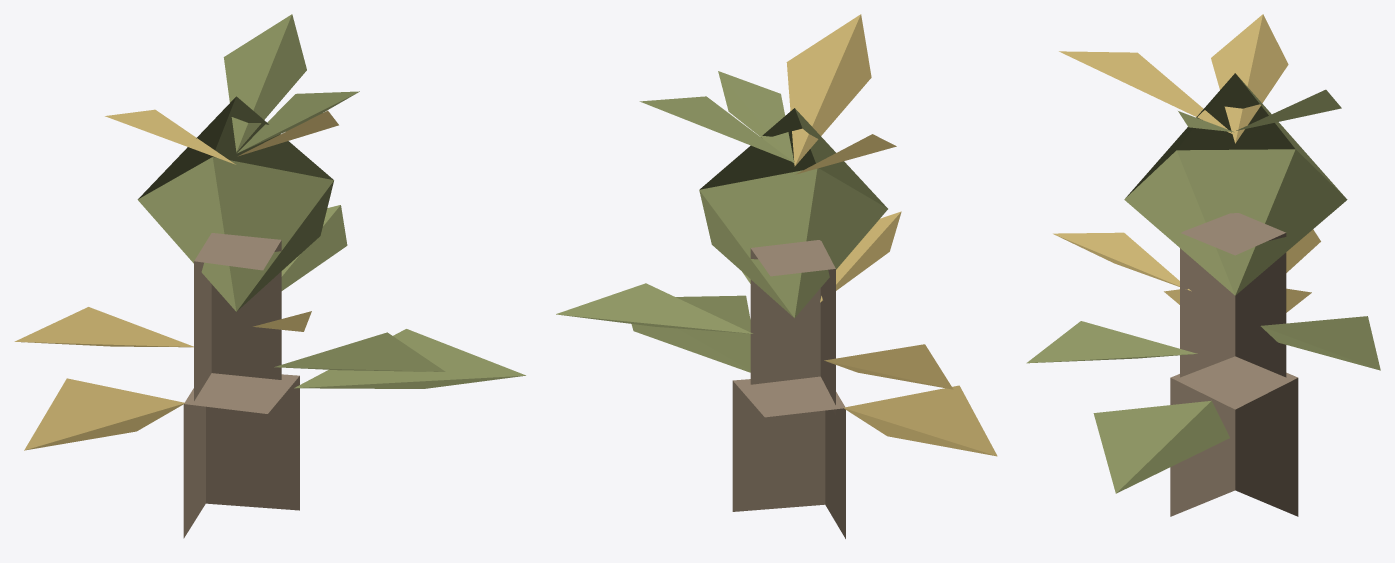
The model's file is shui.lian@seedling__autumn.glb.
3 views of the same model, side by side, from view 1: azimuth 30°, elevation 25°; view 2: azimuth 150°, elevation 25°; view 3: azimuth 270°, elevation 25° (orthographic). The views are drawn at different scales.
Parts seen in each view (by area): view 1: shui.lian@seedling__autumn; view 2: shui.lian@seedling__autumn; view 3: shui.lian@seedling__autumn.
Boxes of the visible parts, <box> form: shui.lian@seedling__autumn: <box>14,14,525,538</box>; shui.lian@seedling__autumn: <box>556,14,997,538</box>; shui.lian@seedling__autumn: <box>1026,14,1380,516</box>.
Size of the model in its own units: 0.1182 by 0.117 by 0.0793.
